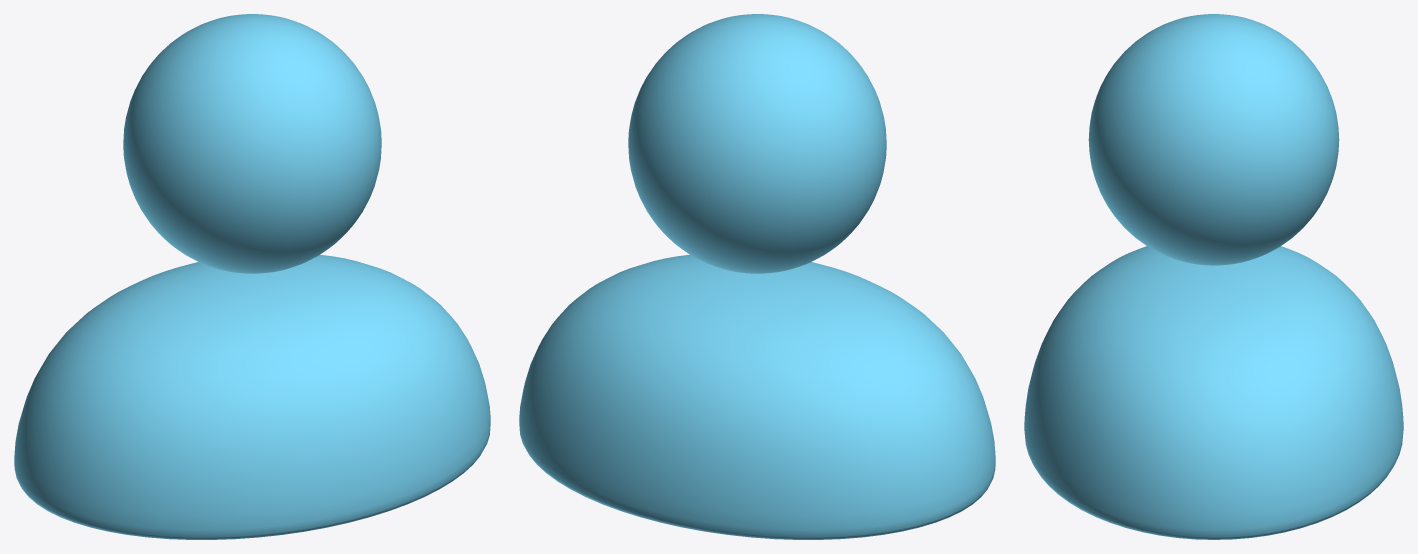
The picture shows the model from 3 angles, left to right: view 1: azimuth 30°, elevation 25°; view 2: azimuth 150°, elevation 25°; view 3: azimuth 270°, elevation 25°; orthographic projection. The views are drawn at different scales.
Visible parts, largest first — view 1: Object_2; view 2: Object_2; view 3: Object_2.
Part boxes in pixels (left/top/right/bottom): Object_2: left=14, top=14, right=490, bottom=539; Object_2: left=519, top=14, right=995, bottom=539; Object_2: left=1024, top=14, right=1403, bottom=539.
Size of the model in its own units: 1.43 by 1.35 by 1.11.
